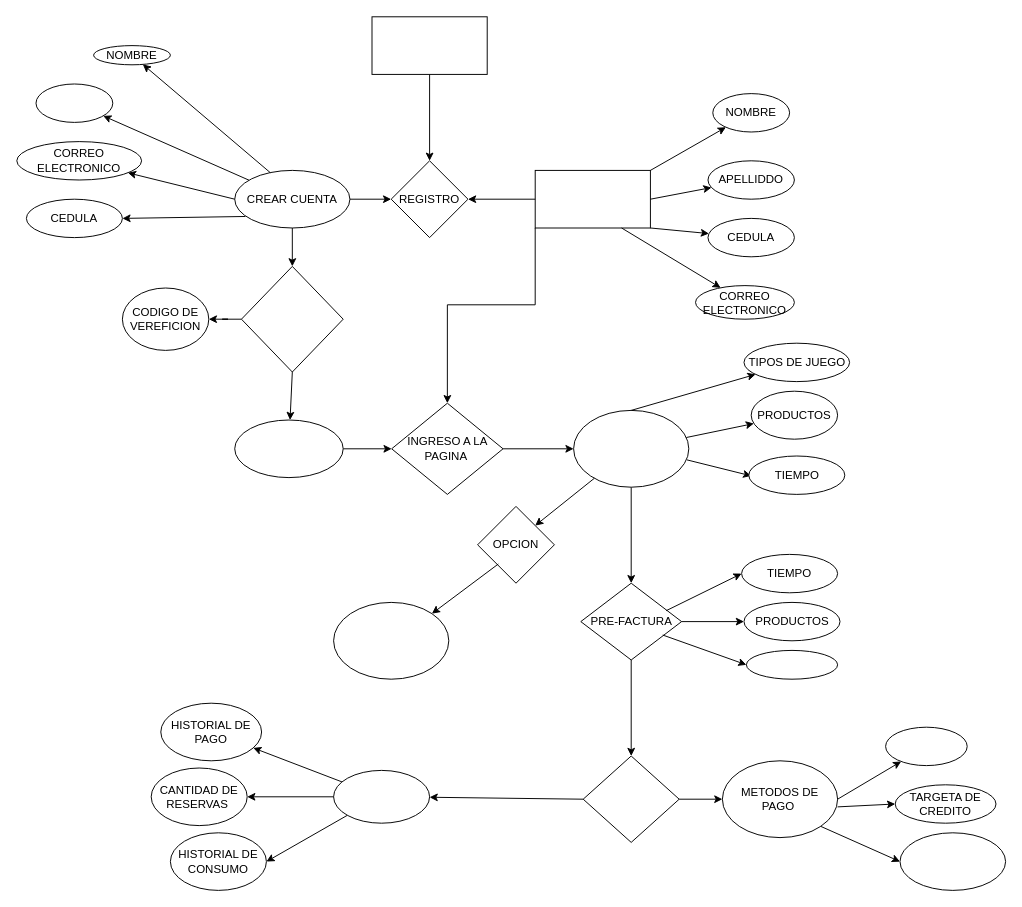
The diagram is 1022 pixels wide and 907 high, and some of its shapes have lost their labels. The shapes that lost their labels are listed below. From the top down, each one's centre as x and y in pixels, then its label:
point (429, 45): LUKAS LLARBI
point (74, 102): APLELLDO
point (592, 198): USUARIO
point (291, 318): VEREFICACION
point (288, 448): CREACION DE CUENTA
point (631, 448): MENU PRINCIPAL
point (391, 640): CERRAR SESION
point (791, 664): PRECIO
point (926, 746): EFECTIVO
point (381, 796): HISTORIAL DE USUARIO
point (630, 798): FACTURA
point (952, 861): PAGO POR TRANSFERENCIA
